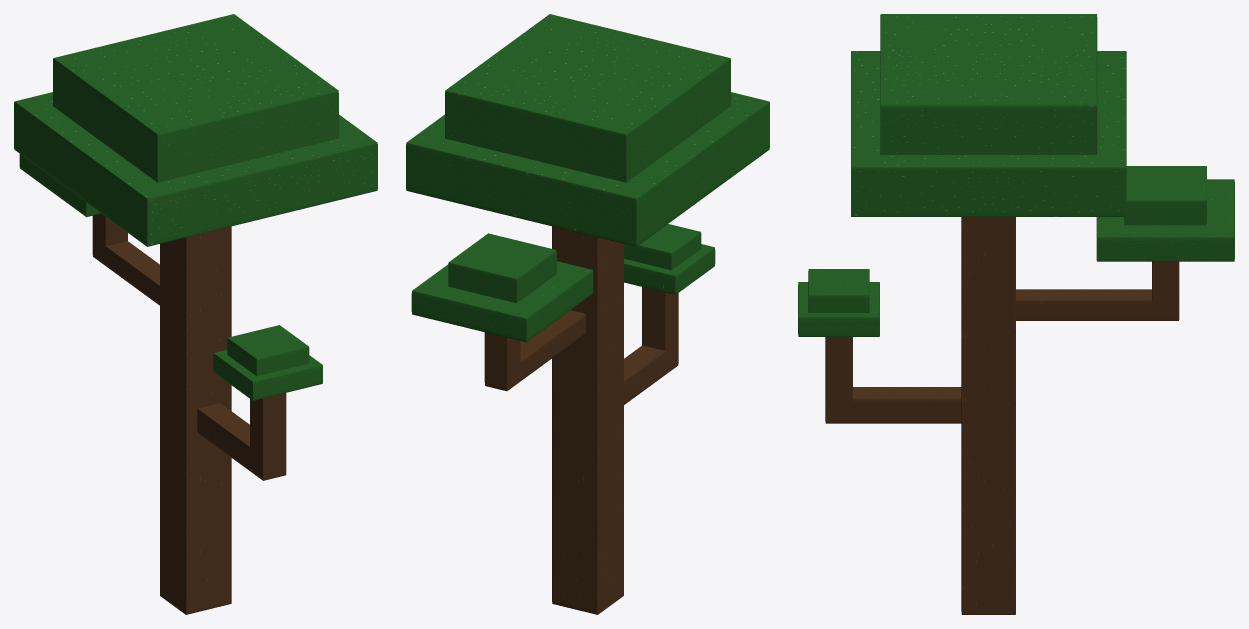
File: tree.fbx
3 views of the same model, side by side, from view 1: azimuth 30°, elevation 25°; view 2: azimuth 150°, elevation 25°; view 3: azimuth 270°, elevation 25° (orthographic). The views are drawn at different scales.
Visible parts, largest first — view 1: Cube.001, Cube; view 2: Cube.001, Cube; view 3: Cube.001, Cube.
Boxes of the visible parts, x1,y1,x2,y2 form: Cube.001: (14, 14, 377, 400); Cube: (92, 203, 286, 614); Cube.001: (406, 14, 769, 342); Cube: (484, 136, 678, 614); Cube.001: (798, 14, 1234, 336); Cube: (825, 105, 1179, 614).
Bounding box in the file's own units: 1010 × 2198 × 1599.
